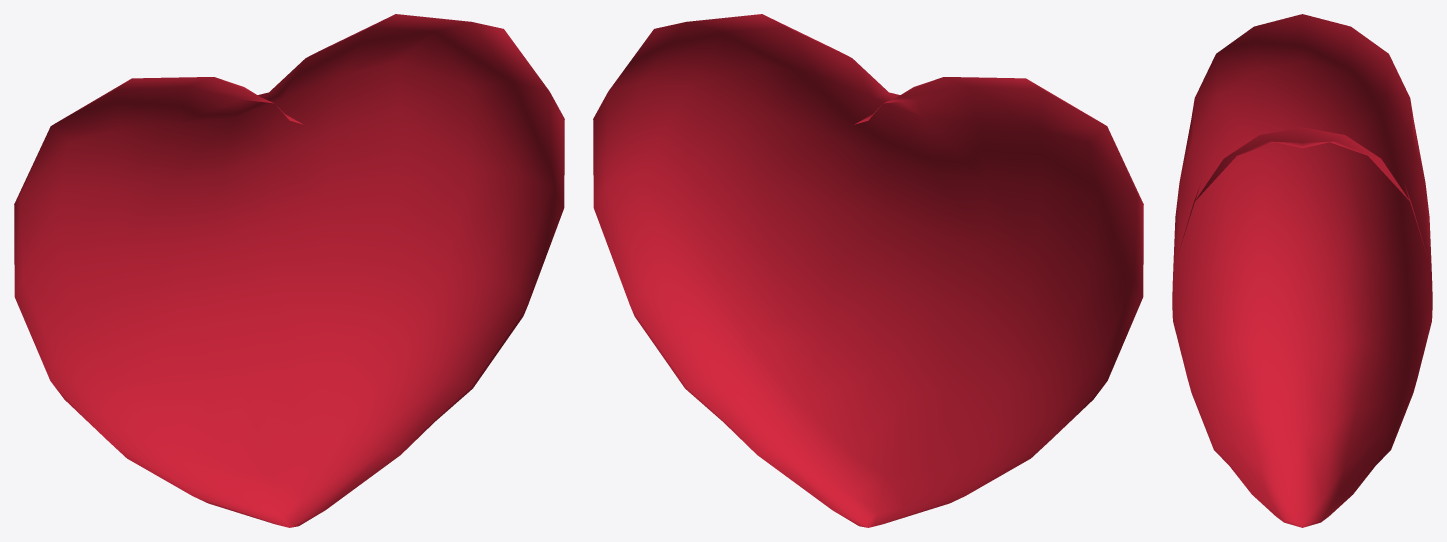
File: heart.glb
3 renders of one model, left to right at view 1: azimuth 30°, elevation 25°; view 2: azimuth 150°, elevation 25°; view 3: azimuth 270°, elevation 25°, orthographic. The views are drawn at different scales.
Parts seen in each view (by area): view 1: Vert; view 2: Vert; view 3: Vert.
Part boxes in pixels (x1,y1,x2,y2): Vert: (14,14,564,527); Vert: (593,14,1143,527); Vert: (1172,14,1432,527).
Size of the model in its own units: 2.83 by 2.45 by 1.31.
